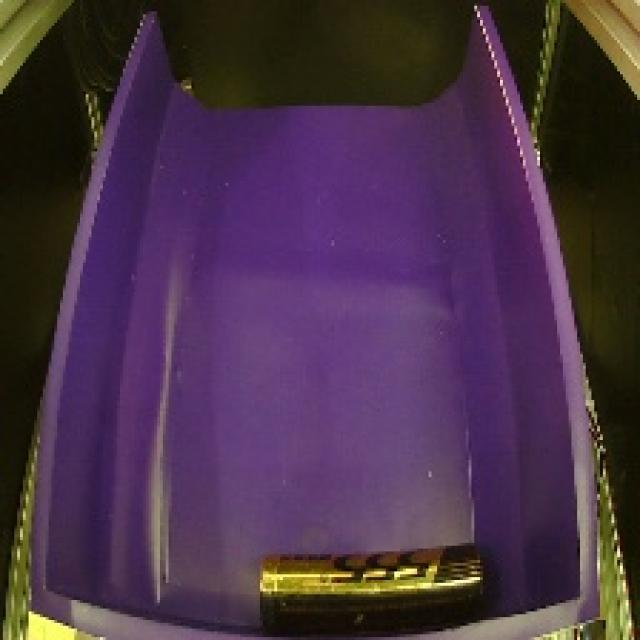battery: (249, 531, 495, 640)
